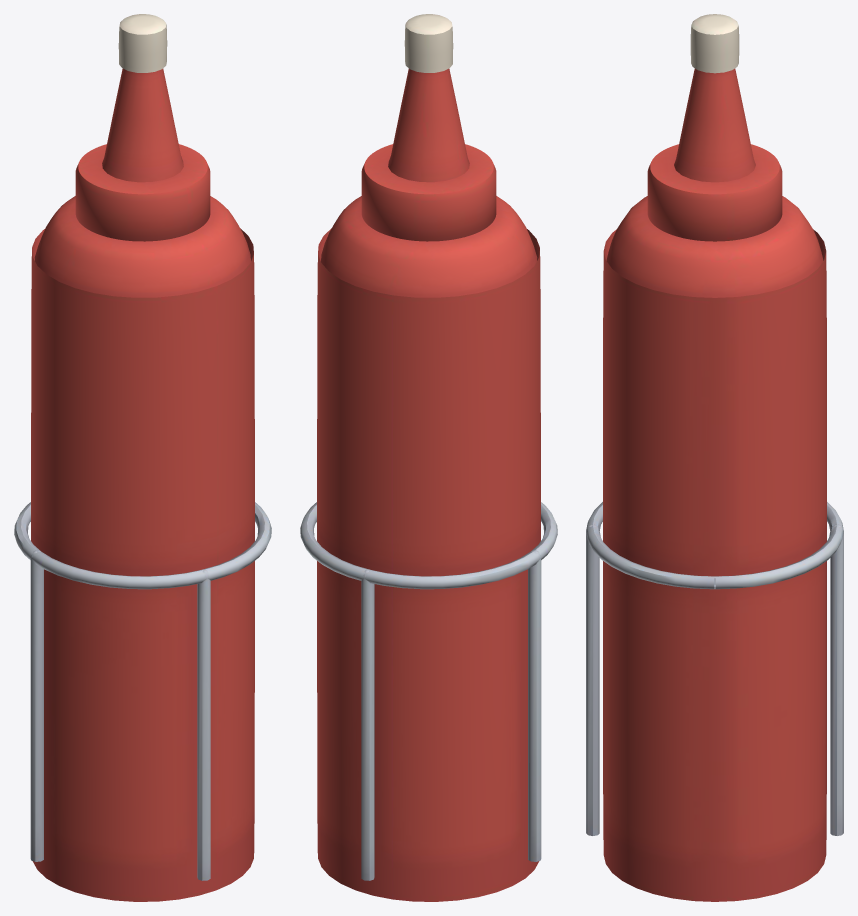
File: hot-sauce.glb
3 views of the same model, side by side, from view 1: azimuth 30°, elevation 25°; view 2: azimuth 150°, elevation 25°; view 3: azimuth 270°, elevation 25° (orthographic).
Visible parts, largest first — view 1: condiment-bottles_body; view 2: condiment-bottles_body; view 3: condiment-bottles_body.
Part boxes in pixels (left/top/right/bottom): condiment-bottles_body: left=14, top=14, right=271, bottom=901; condiment-bottles_body: left=300, top=14, right=557, bottom=901; condiment-bottles_body: left=586, top=14, right=843, bottom=901.
Size of the model in its own units: 0.06 by 0.2139 by 0.06.
Materials: 1 (1 with a texture image).
